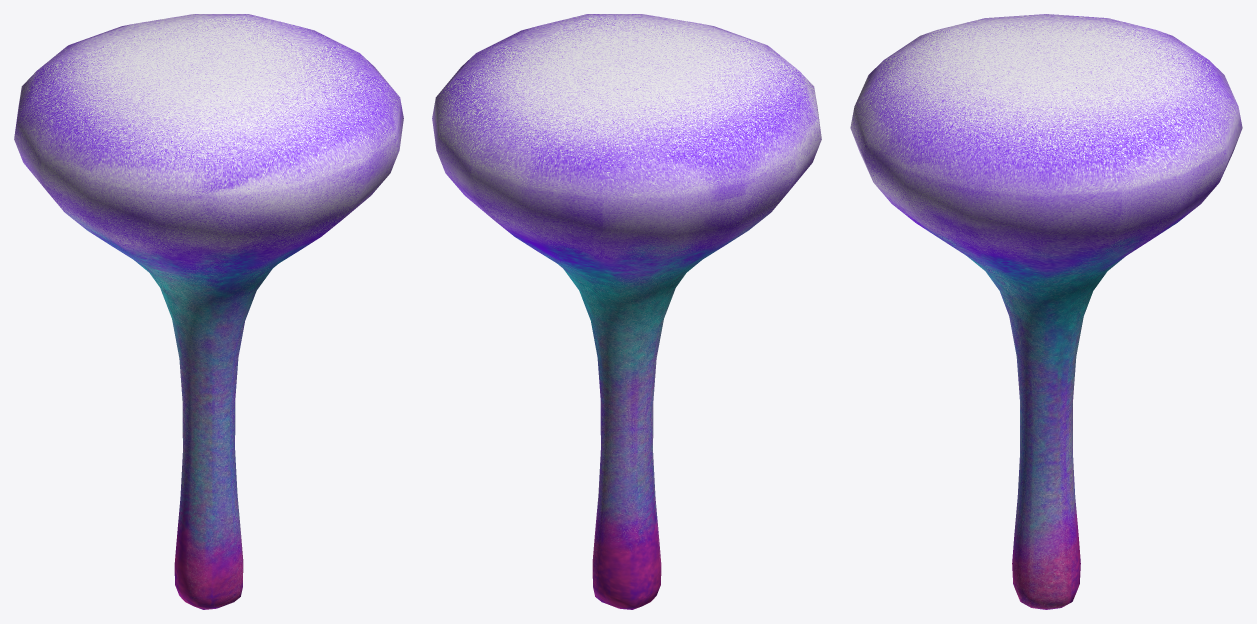
Rendered from Pflanze2.fbx.
3 views of the same model, side by side, from view 1: azimuth 30°, elevation 25°; view 2: azimuth 150°, elevation 25°; view 3: azimuth 270°, elevation 25° (orthographic).
Parts seen in each view (by area): view 1: Cube; view 2: Cube; view 3: Cube.
Boxes of the visible parts, <box> form: Cube: <box>14,14,403,609</box>; Cube: <box>432,14,821,609</box>; Cube: <box>850,14,1242,609</box>.
Size of the model in its own units: 871 by 1336 by 871.
Materials: 1 (1 with a texture image).
